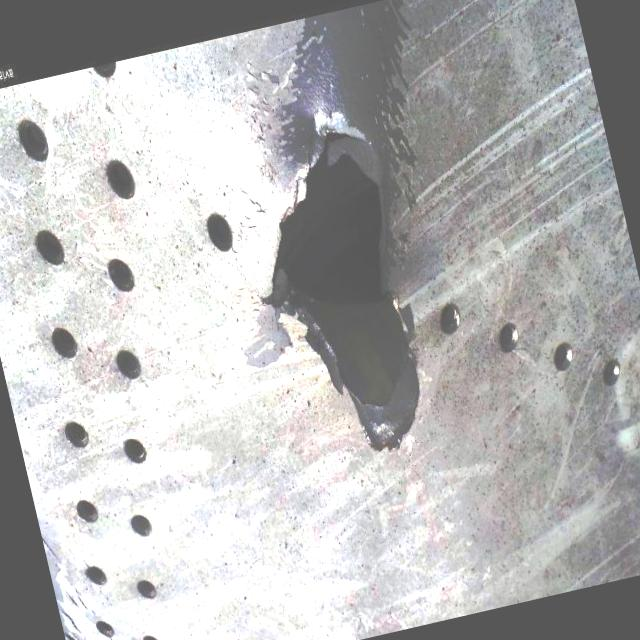crack: (223, 108, 441, 470)
